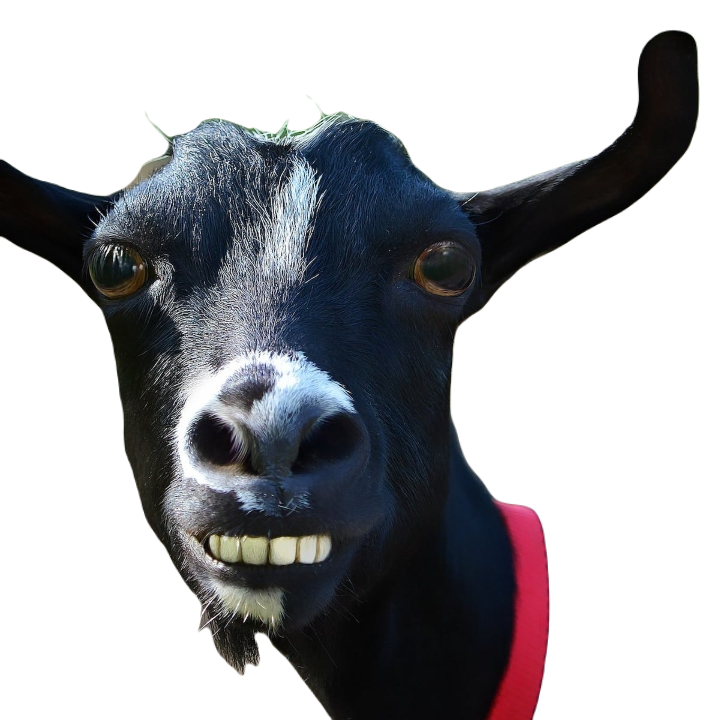Goat: (0, 27, 700, 717)
